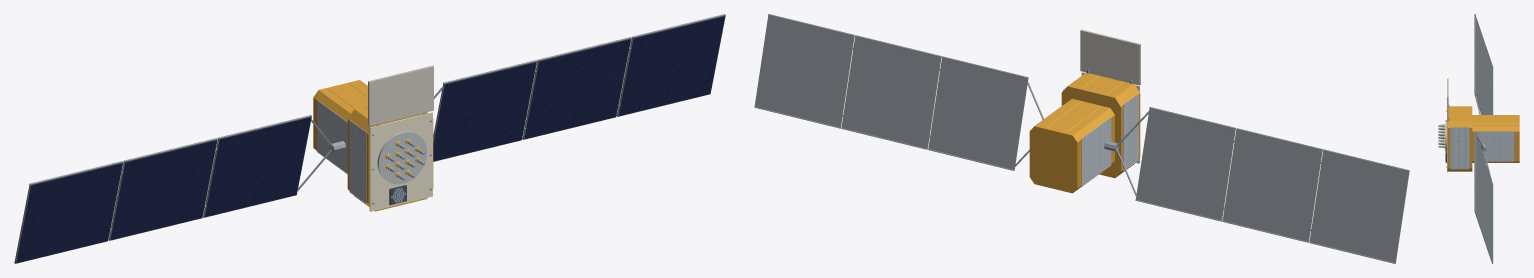
Rendered from beidou-3-cast-sar.glb.
The picture shows the model from 3 angles, left to right: view 1: azimuth 30°, elevation 25°; view 2: azimuth 150°, elevation 25°; view 3: azimuth 270°, elevation 25°; orthographic projection. The views are drawn at different scales.
Visible parts, largest first — view 1: Solar cell strings (×6), Solar leaf backsheet (×6), Earth-facing equipment deck, Search and rescue antenna, Optical solar reflector tiles (×2), Navigation antenna ground plane, CAST service module, CAST T-shaped payload deck; view 2: Solar leaf backsheet (×6), CAST service module, CAST T-shaped payload deck, Search and rescue antenna, Optical solar reflector tiles (×2); view 3: Solar leaf backsheet (×6), Optical solar reflector tiles (×2), CAST service module, CAST T-shaped payload deck, Search and rescue antenna, Navigation antenna ground plane.
Boxes of the visible parts, bbox=[...] form: Solar cell strings (×6): bbox=[16, 16, 725, 263]; Solar leaf backsheet (×6): bbox=[14, 14, 725, 263]; Earth-facing equipment deck: bbox=[369, 112, 432, 211]; Search and rescue antenna: bbox=[368, 65, 433, 126]; Optical solar reflector tiles (×2): bbox=[317, 100, 366, 203]; Navigation antenna ground plane: bbox=[377, 131, 427, 184]; CAST service module: bbox=[313, 80, 367, 151]; CAST T-shaped payload deck: bbox=[347, 105, 433, 211]; Solar leaf backsheet (×6): bbox=[754, 14, 1409, 263]; CAST service module: bbox=[1029, 98, 1114, 193]; CAST T-shaped payload deck: bbox=[1061, 72, 1140, 178]; Search and rescue antenna: bbox=[1080, 29, 1140, 85]; Optical solar reflector tiles (×2): bbox=[1081, 94, 1138, 186]; Solar leaf backsheet (×6): bbox=[1474, 14, 1492, 263]; Optical solar reflector tiles (×2): bbox=[1450, 127, 1514, 168]; CAST service module: bbox=[1472, 115, 1519, 162]; CAST T-shaped payload deck: bbox=[1447, 106, 1472, 171]; Search and rescue antenna: bbox=[1447, 78, 1448, 122]; Navigation antenna ground plane: bbox=[1445, 120, 1446, 152].
Bounding box in the file's own units: 14 × 2.56 × 2.44.
Materials: 11 (2 with a texture image).
